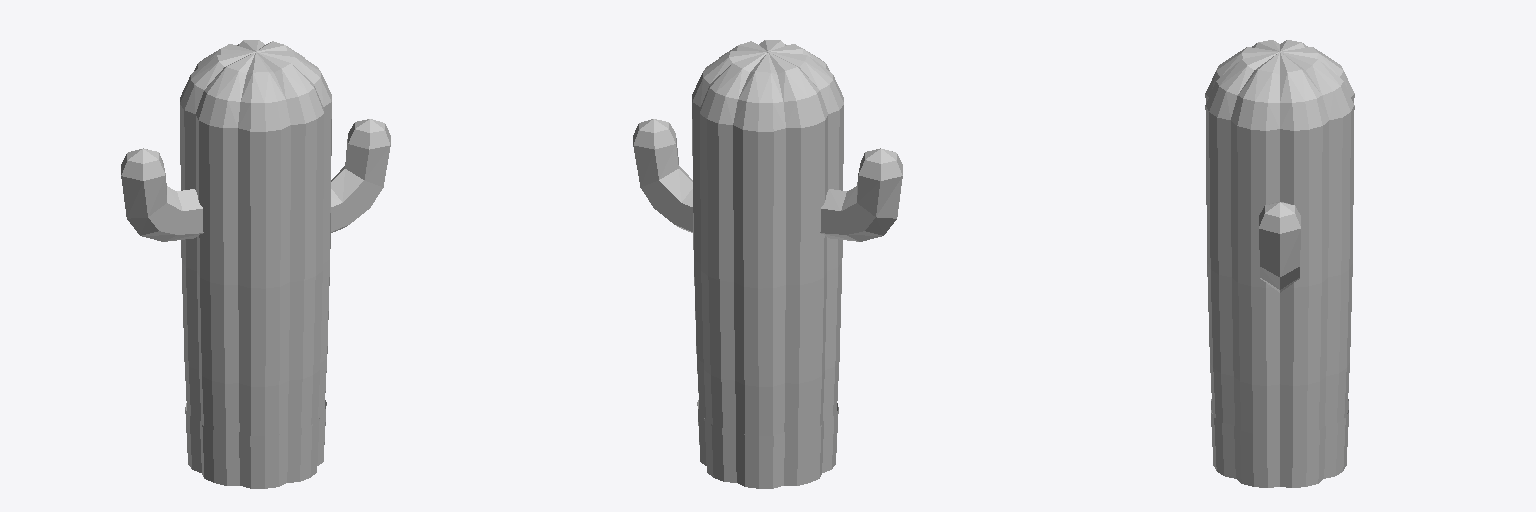
3 renders of one model, left to right at view 1: azimuth 30°, elevation 25°; view 2: azimuth 150°, elevation 25°; view 3: azimuth 270°, elevation 25°, orthographic.
Parts seen in each view (by area): view 1: rdmobj01, rdmobj02, rdmobj00; view 2: rdmobj01, rdmobj02, rdmobj00; view 3: rdmobj01, rdmobj00, rdmobj02.
Part boxes in pixels (bbox=[...]): rdmobj01: bbox=[180, 40, 331, 435]; rdmobj02: bbox=[121, 119, 390, 241]; rdmobj00: bbox=[185, 400, 326, 488]; rdmobj01: bbox=[692, 40, 843, 435]; rdmobj02: bbox=[633, 119, 902, 241]; rdmobj00: bbox=[697, 400, 838, 488]; rdmobj01: bbox=[1205, 40, 1354, 434]; rdmobj00: bbox=[1211, 399, 1348, 487]; rdmobj02: bbox=[1259, 202, 1300, 292].
Size of the model in its own units: 22.46 by 32.51 by 10.75.